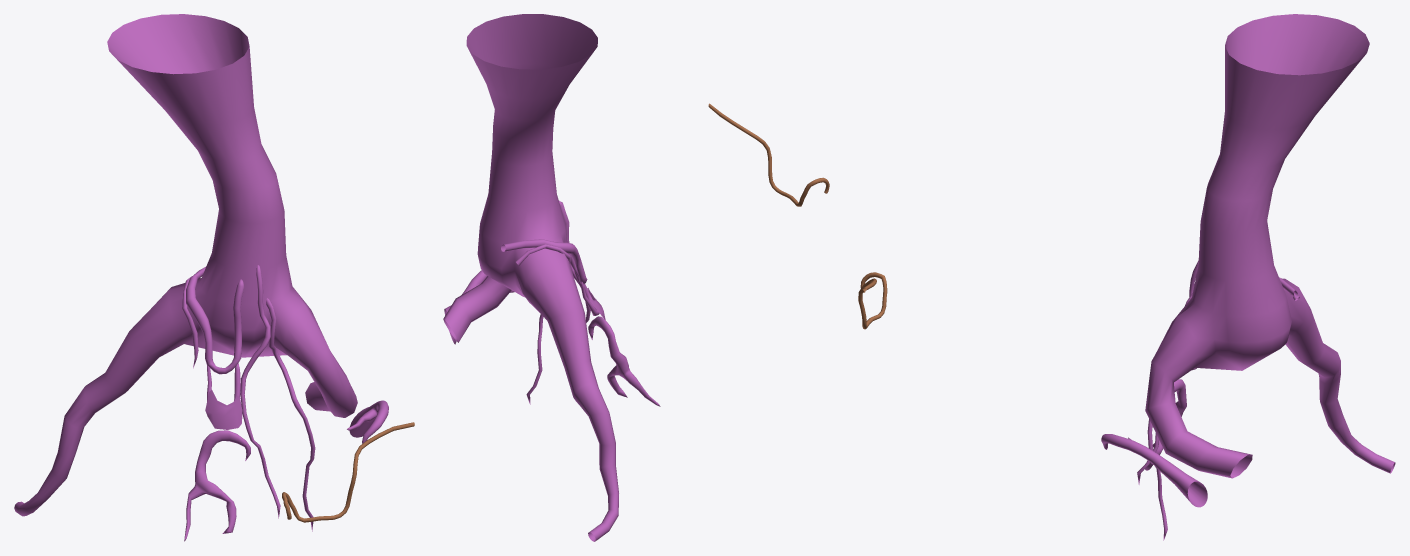
File: BigTree.fbx
The picture shows the model from 3 angles, left to right: view 1: azimuth 30°, elevation 25°; view 2: azimuth 150°, elevation 25°; view 3: azimuth 270°, elevation 25°; orthographic projection. The views are drawn at different scales.
Visible parts, largest first — view 1: tree; view 2: tree; view 3: tree.
Part boxes in pixels (left/top/right/bottom): tree: left=14, top=14, right=414, bottom=541; tree: left=443, top=14, right=829, bottom=541; tree: left=858, top=14, right=1395, bottom=540.
Size of the model in its own units: 9.27 by 15.57 by 15.67.
